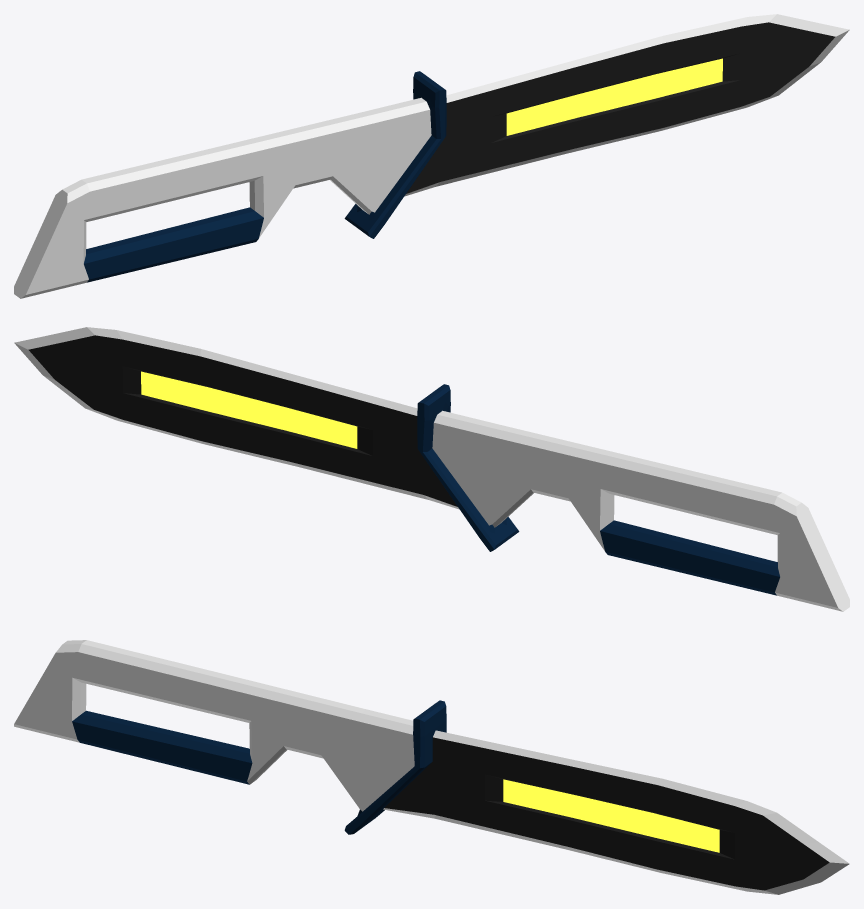
Rendered from knife_overtime.fbx.
3 renders of one model, top to bottom at view 1: azimuth 30°, elevation 25°; view 2: azimuth 150°, elevation 25°; view 3: azimuth 330°, elevation 25°, orthographic.
Visible parts, largest first — view 1: Knife; view 2: Knife; view 3: Knife.
Boxes of the visible parts, <box> form: Knife: <box>14,14,849,298</box>; Knife: <box>14,327,849,611</box>; Knife: <box>14,640,849,894</box>.
Size of the model in its own units: 375 by 56.96 by 19.4.
